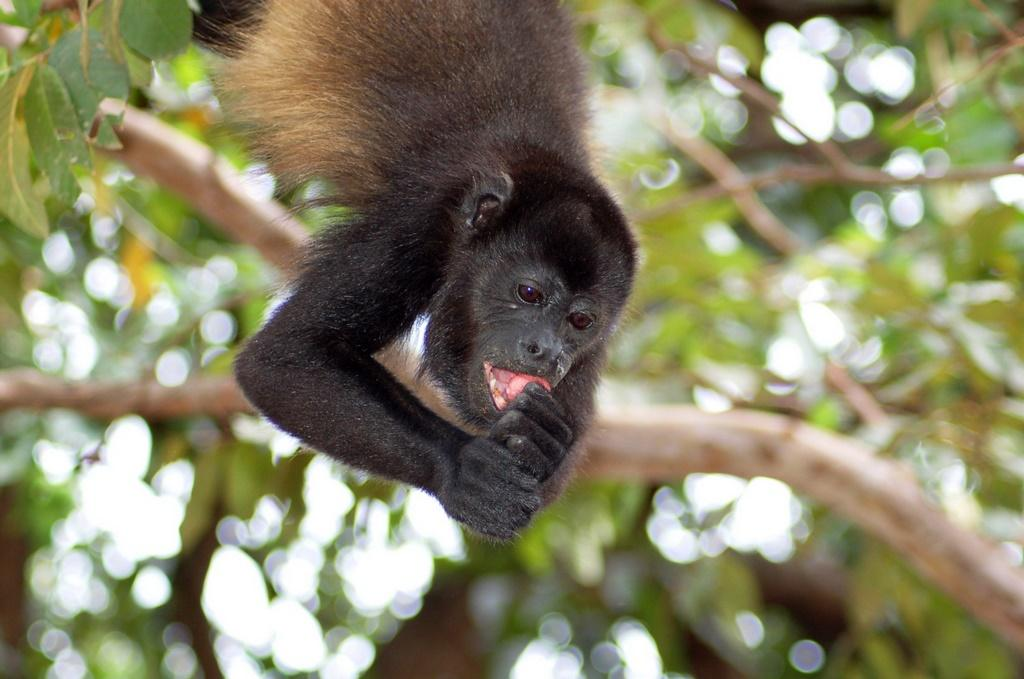monkey: (217, 0, 638, 545)
